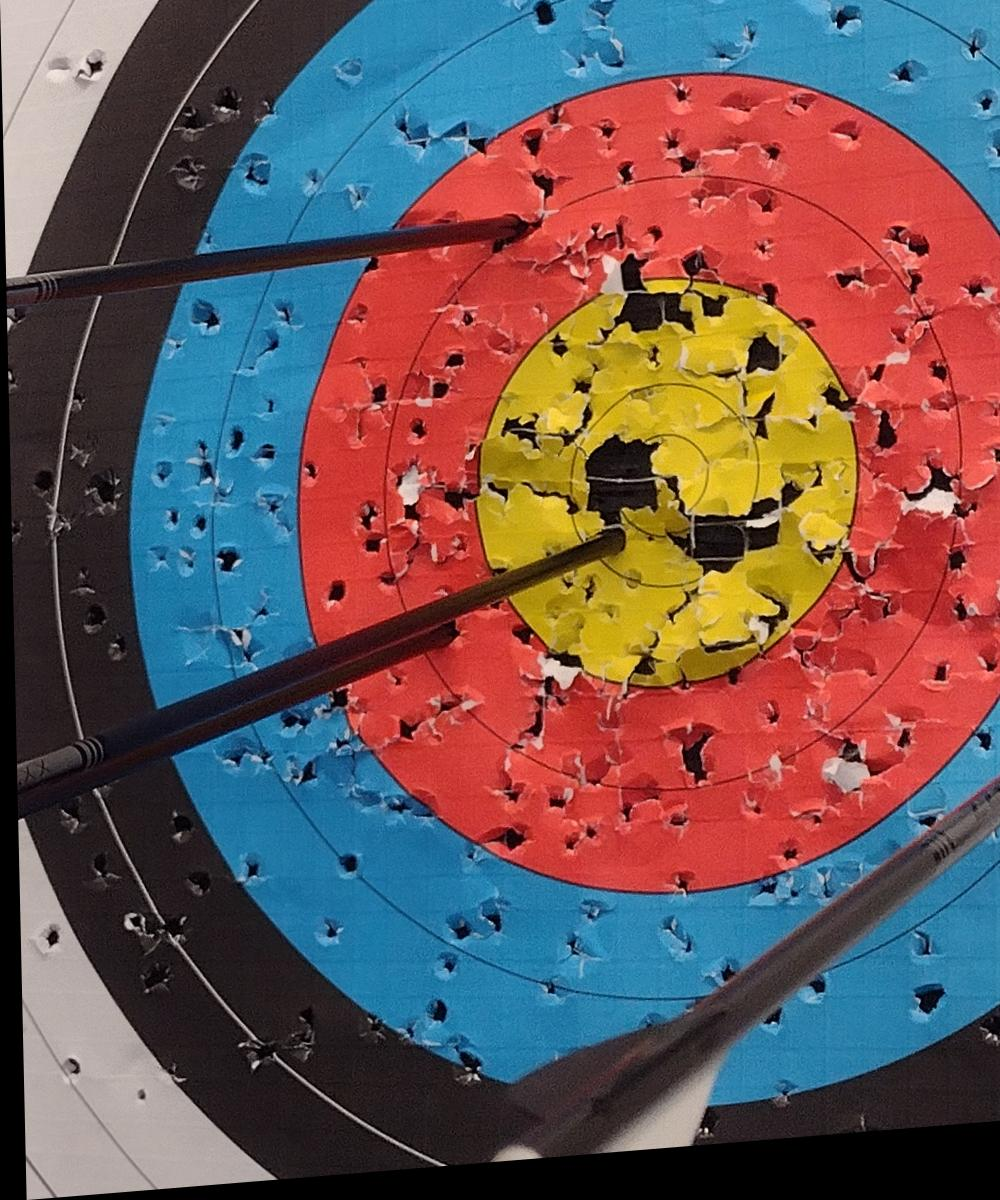10-Ring: (563, 391, 759, 604)
6-Ring: (208, 0, 1000, 1010)
7-Ring: (294, 84, 1000, 907)
8-Ring: (361, 172, 979, 818)
9-Ring: (388, 217, 943, 772)
Arrow: (3, 530, 624, 799), (7, 629, 454, 822), (2, 217, 520, 309)
